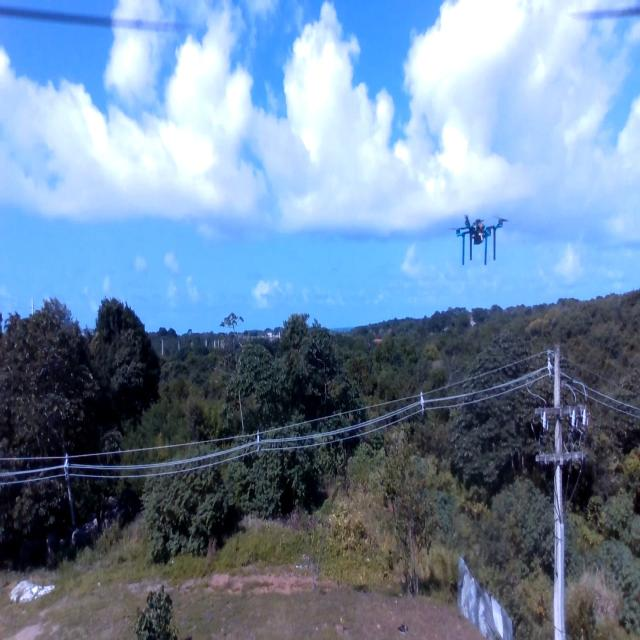-uav-: (448, 202, 516, 277)
